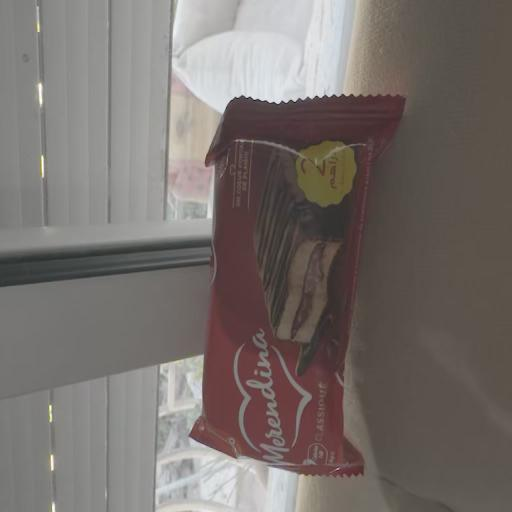merendina: (191, 91, 396, 475)
